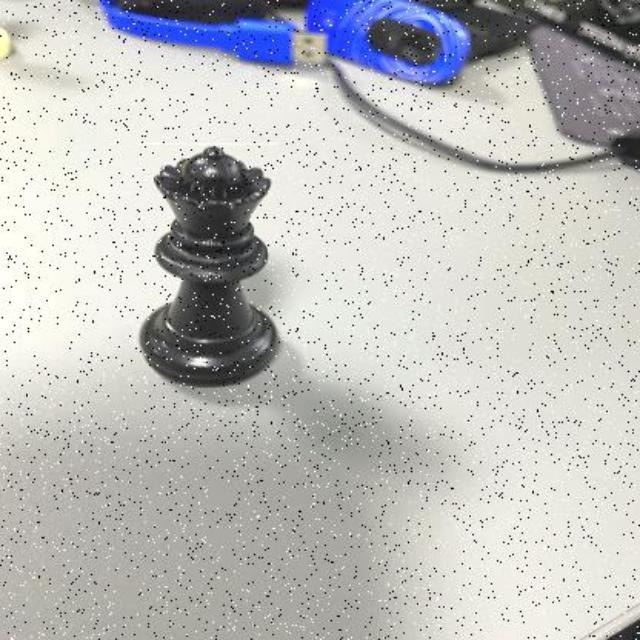black-queen: (136, 143, 280, 387)
